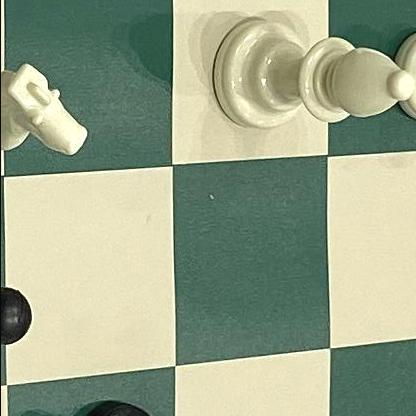black-pawn: (0, 244, 54, 364)
white-bishop: (202, 0, 416, 144)
white-knight: (0, 22, 106, 178)
